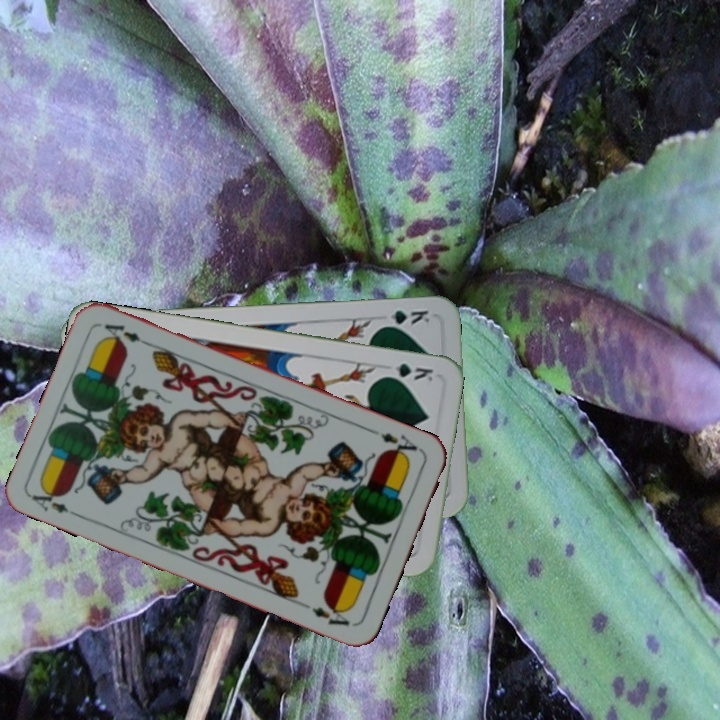EA: (27, 483, 84, 521), (367, 425, 424, 462)
GK: (378, 359, 436, 384), (376, 306, 434, 330)
